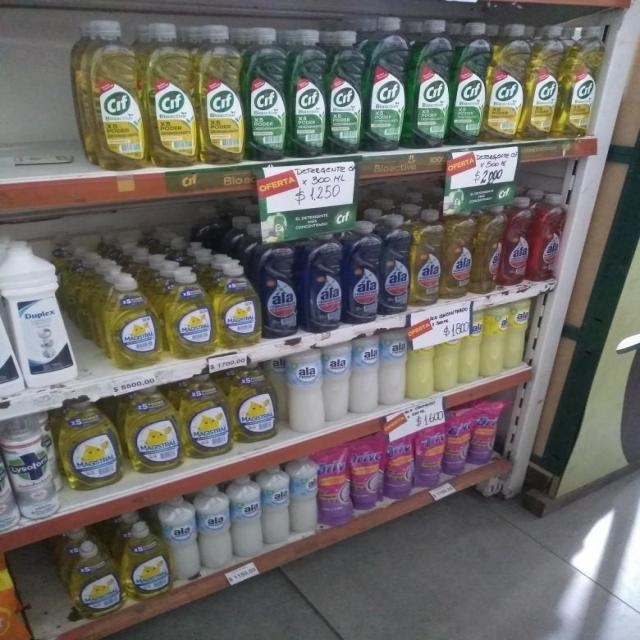ala_conc_amarillo: (411, 210, 442, 306), (444, 206, 473, 300)
ala_conc_azul: (302, 230, 343, 332), (261, 231, 299, 338), (345, 220, 380, 324), (381, 212, 410, 314)
ala_conc_rojo: (531, 193, 568, 283), (503, 196, 530, 288)
ala_crem_amarillo: (483, 304, 507, 378), (508, 299, 530, 369), (462, 308, 482, 382)
ala_crem_blanco: (285, 348, 323, 433), (165, 495, 198, 581), (199, 484, 230, 572), (232, 474, 261, 558), (262, 464, 289, 546), (351, 334, 378, 414), (291, 456, 318, 535), (324, 342, 350, 422)
cif_conc_bot_amarilla: (78, 20, 143, 172), (145, 21, 196, 168), (198, 23, 243, 165), (560, 25, 602, 139), (488, 23, 525, 143), (526, 24, 560, 141)
cif_conc_botella_verde: (245, 25, 288, 161), (367, 17, 408, 152), (410, 18, 451, 149), (289, 27, 326, 158), (328, 28, 364, 155), (452, 21, 487, 146)
magistral_con_amarillo: (103, 272, 161, 370), (60, 397, 121, 490), (124, 386, 180, 474), (165, 266, 213, 358), (215, 260, 260, 350), (182, 373, 229, 459), (232, 364, 278, 444)
